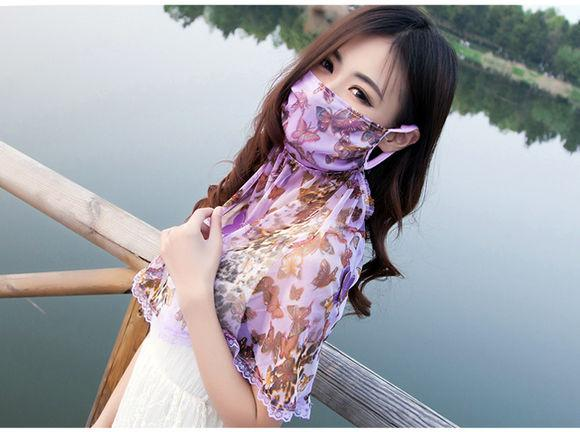OK: (285, 41, 384, 168)
